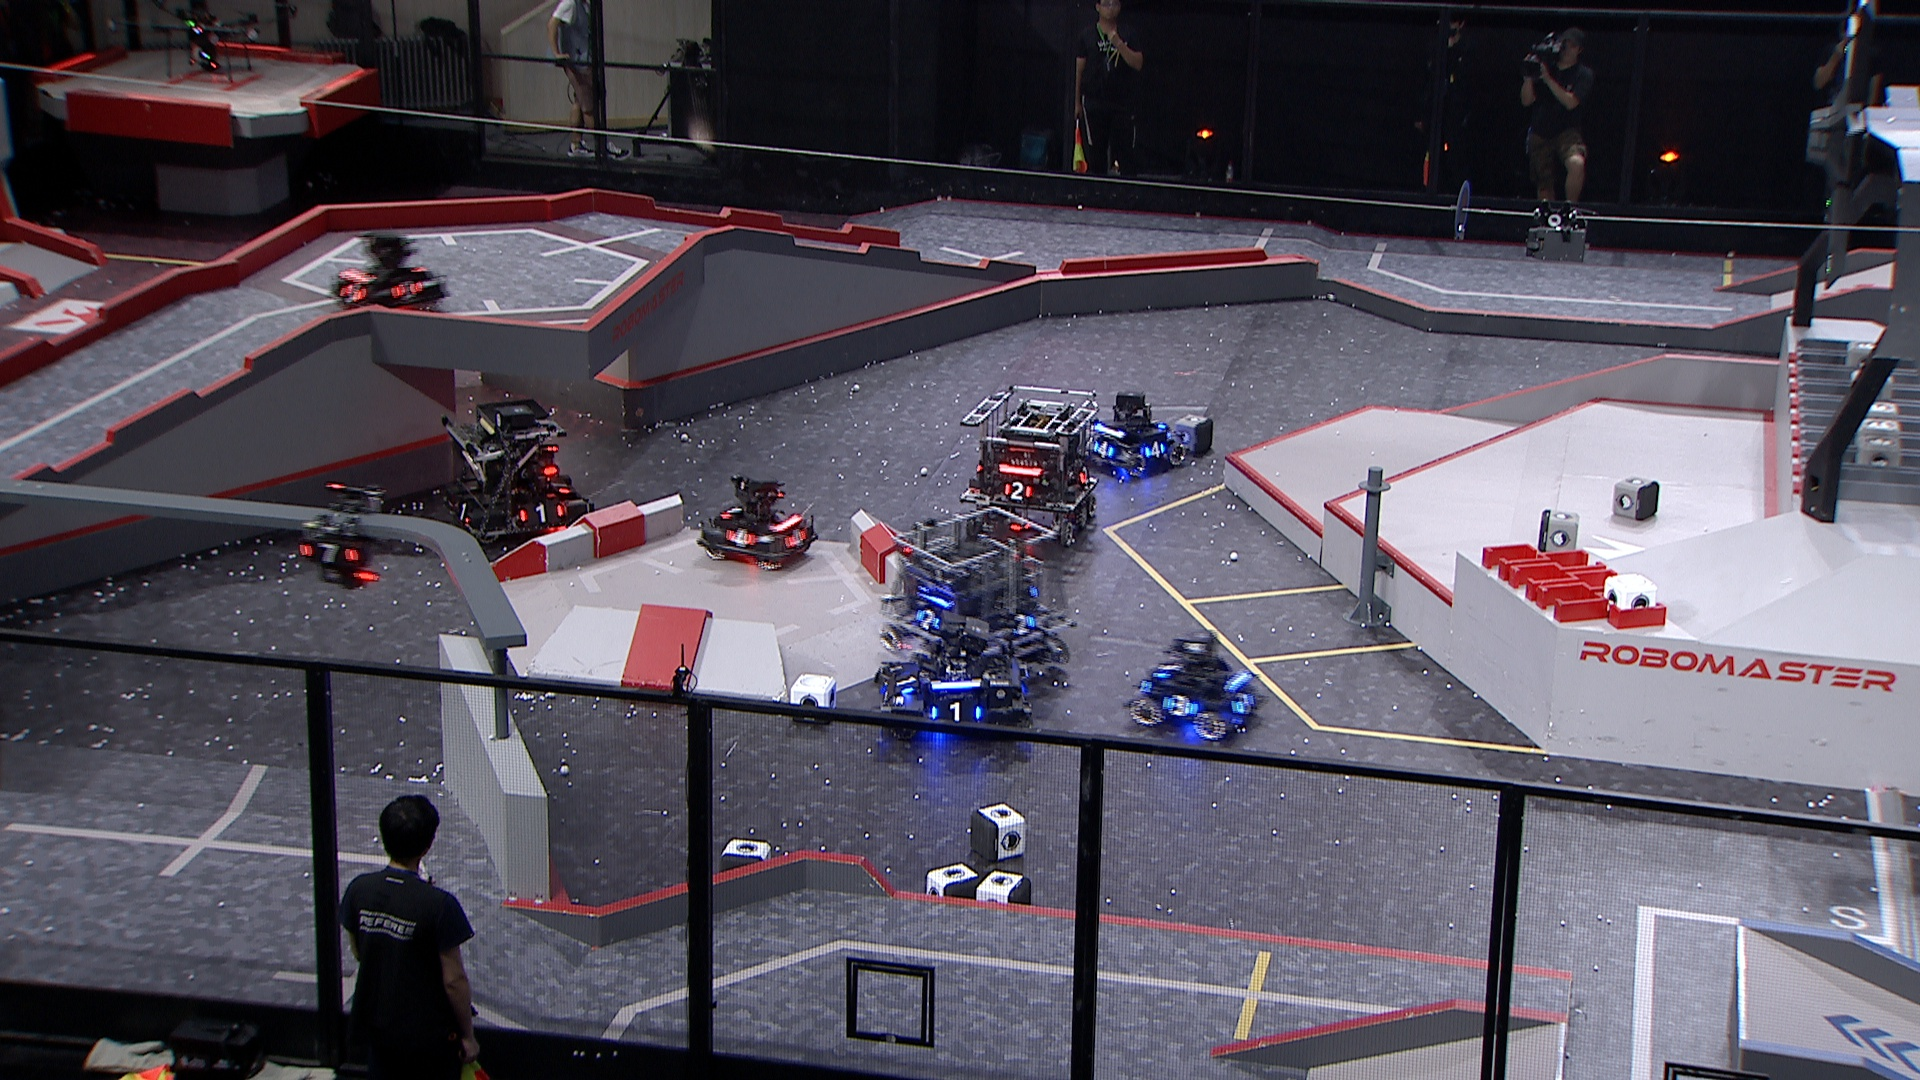armor: (297, 541, 359, 568), (926, 699, 984, 721), (514, 502, 562, 526), (1164, 694, 1201, 719), (389, 278, 425, 302), (891, 671, 920, 699), (724, 527, 757, 550), (911, 608, 942, 632), (338, 281, 367, 305), (1002, 481, 1034, 502), (1232, 692, 1257, 717), (1011, 612, 1035, 638), (1153, 659, 1182, 680), (452, 498, 471, 526), (785, 526, 807, 549), (546, 477, 571, 496), (1143, 440, 1166, 460), (719, 504, 742, 520), (1095, 440, 1116, 458), (1076, 465, 1092, 488)
car: (876, 509, 1077, 684), (956, 384, 1101, 549), (442, 400, 591, 545), (876, 636, 1029, 750), (1124, 632, 1266, 744), (695, 471, 818, 571), (327, 232, 448, 315), (1083, 386, 1189, 480)
watcher: (294, 481, 386, 589)
